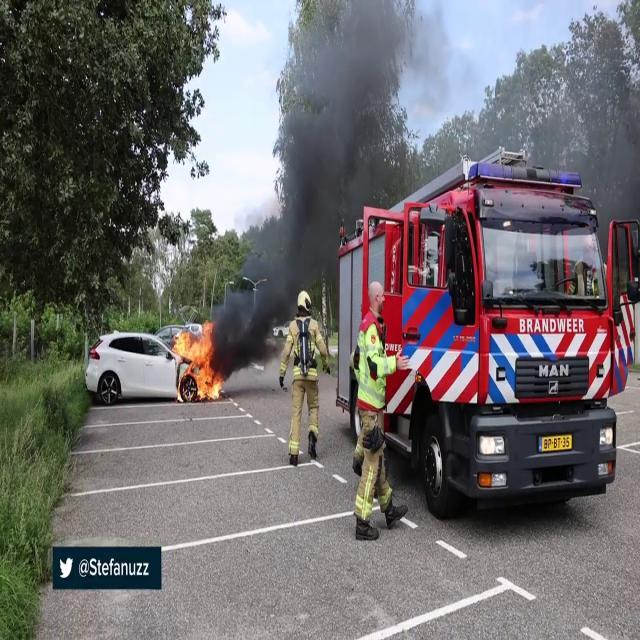Fire: (171, 320, 221, 400)
Smoke: (229, 1, 407, 302)
